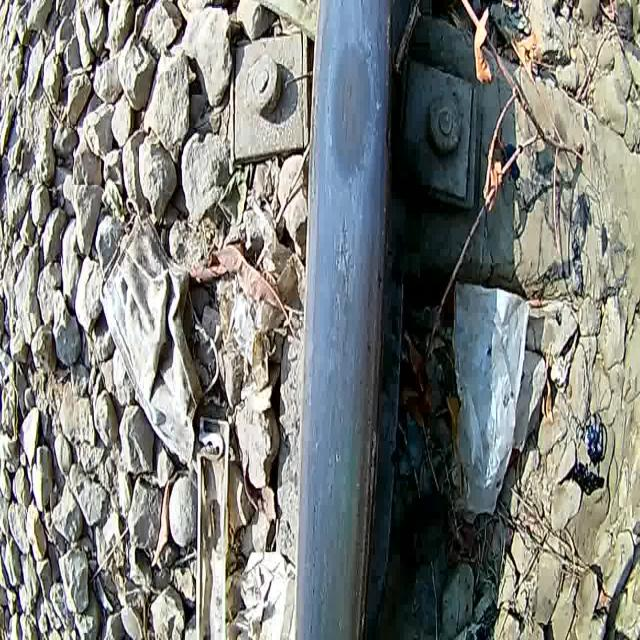Squats: (278, 0, 410, 640)
